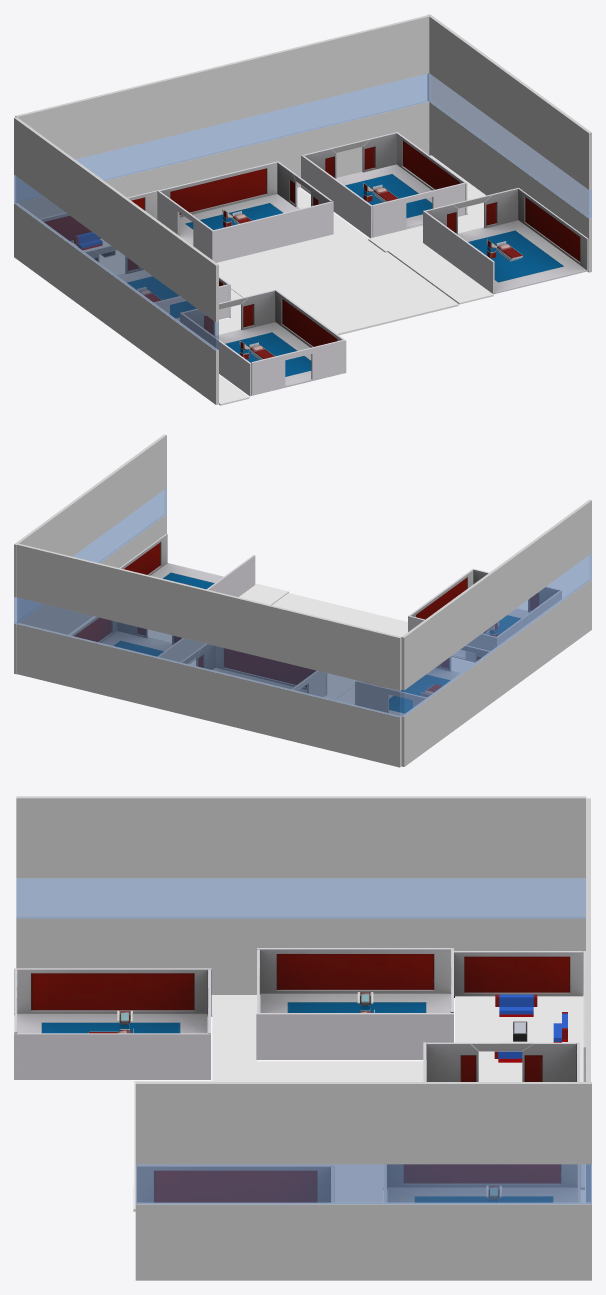
3 renders of one model, top to bottom at view 1: azimuth 30°, elevation 25°; view 2: azimuth 150°, elevation 25°; view 3: azimuth 270°, elevation 25°, orthographic. The views are drawn at different scales.
Parts seen in each view (by area): view 1: pasted__pCube21, pasted__pCube22, pasted__pCube23, pCube4, pasted__PAREDE_TRAS6, pasted__PAREDE_TRAS4, pasted__PAREDE_TRAS5, polySurface4, polySurface8, polySurface2, polySurface3, polySurface1 (+4 smaller); view 2: pasted__pCube21, pasted__pCube22, pasted__pCube23, pCube4, pasted__PAREDE_TRAS6, pasted__PAREDE_TRAS5, pasted__PAREDE_TRAS4, pasted__PAREDE_TRAS3, polySurface2, polySurface7, polySurface3, polySurface4 (+2 smaller); view 3: pasted__pCube22, pasted__pCube23, pasted__PAREDE_TRAS5, pasted__PAREDE_TRAS3, pCube4, polySurface2, pasted__PAREDE_TRAS4, polySurface11, pasted__PAREDE_TRAS6, pasted__pCube21, pasted__pCube14.
Part boxes in pixels (x1,y1,x2,y2): pasted__pCube21: [15, 15, 429, 218]; pasted__pCube22: [14, 117, 218, 404]; pasted__pCube23: [427, 14, 591, 272]; pCube4: [73, 155, 493, 405]; pasted__PAREDE_TRAS6: [157, 161, 333, 262]; pasted__PAREDE_TRAS4: [301, 132, 467, 238]; pasted__PAREDE_TRAS5: [180, 289, 346, 396]; polySurface4: [458, 220, 587, 293]; polySurface8: [251, 340, 344, 394]; polySurface2: [423, 210, 494, 294]; polySurface3: [518, 188, 588, 271]; polySurface1: [425, 188, 518, 234]; pasted__pCube21: [17, 543, 401, 767]; pasted__pCube22: [401, 499, 591, 766]; pasted__pCube23: [14, 434, 166, 674]; pCube4: [68, 583, 472, 704]; pasted__PAREDE_TRAS6: [213, 646, 326, 696]; pasted__PAREDE_TRAS5: [408, 569, 561, 662]; pasted__PAREDE_TRAS4: [70, 617, 205, 664]; pasted__PAREDE_TRAS3: [355, 645, 489, 715]; polySurface2: [206, 555, 255, 596]; polySurface7: [357, 681, 426, 712]; polySurface3: [119, 533, 167, 575]; polySurface4: [150, 563, 223, 589]; pasted__pCube22: [16, 796, 586, 994]; pasted__pCube23: [135, 1082, 591, 1280]; pasted__PAREDE_TRAS5: [14, 968, 211, 1079]; pasted__PAREDE_TRAS3: [256, 948, 453, 1059]; pCube4: [133, 995, 584, 1211]; polySurface2: [137, 1165, 333, 1202]; pasted__PAREDE_TRAS4: [384, 1164, 577, 1202]; polySurface11: [454, 951, 583, 997]; pasted__PAREDE_TRAS6: [423, 1042, 579, 1081]; pasted__pCube21: [586, 798, 590, 1202]; pasted__pCube14: [495, 994, 537, 1016].
Size of the model in its own units: 84.44 by 27.1 by 71.66.
Materials: 9 (6 with a texture image).
